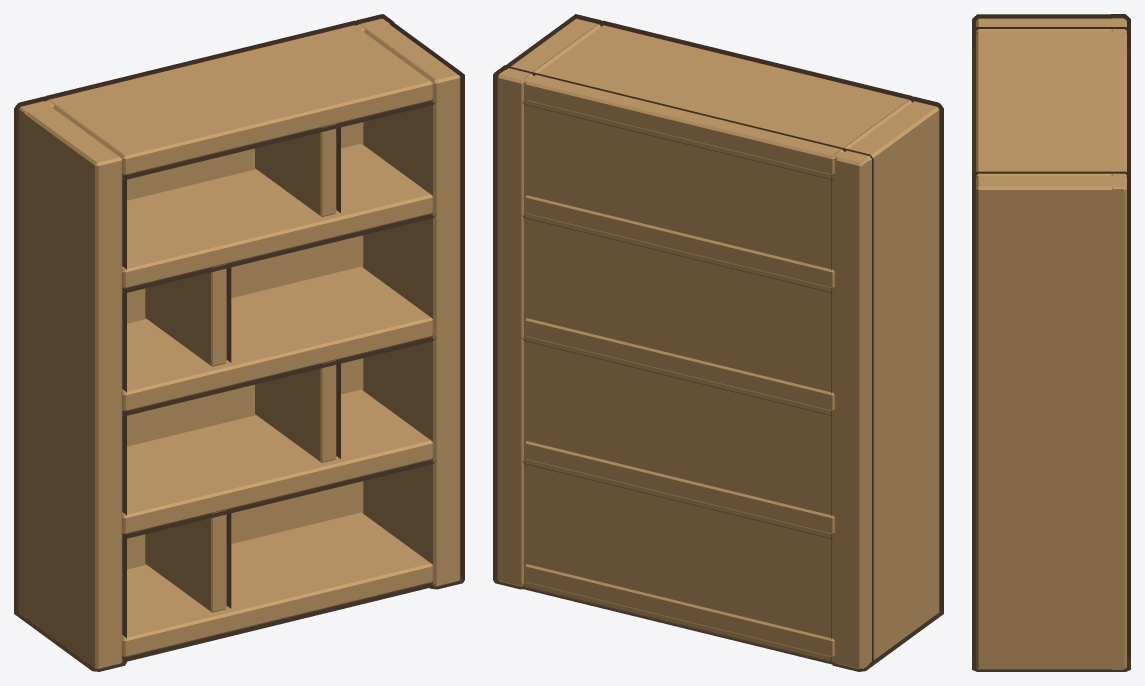
Rendered from atelier-bookcase.glb.
3 views of the same model, side by side, from view 1: azimuth 30°, elevation 25°; view 2: azimuth 150°, elevation 25°; view 3: azimuth 270°, elevation 25° (orthographic). The views are drawn at different scales.
Visible parts, largest first — view 1: atelier-bookcase, atelier-bookcase-outline; view 2: atelier-bookcase, atelier-bookcase-outline; view 3: atelier-bookcase, atelier-bookcase-outline.
Part boxes in pixels (bbox=[...]): atelier-bookcase: bbox=[18, 18, 460, 669]; atelier-bookcase-outline: bbox=[14, 14, 464, 671]; atelier-bookcase: bbox=[497, 18, 939, 669]; atelier-bookcase-outline: bbox=[493, 14, 943, 671]; atelier-bookcase: bbox=[976, 18, 1126, 669]; atelier-bookcase-outline: bbox=[972, 14, 1130, 671].
Size of the model in its own units: 1.63 by 2.14 by 0.6315.
